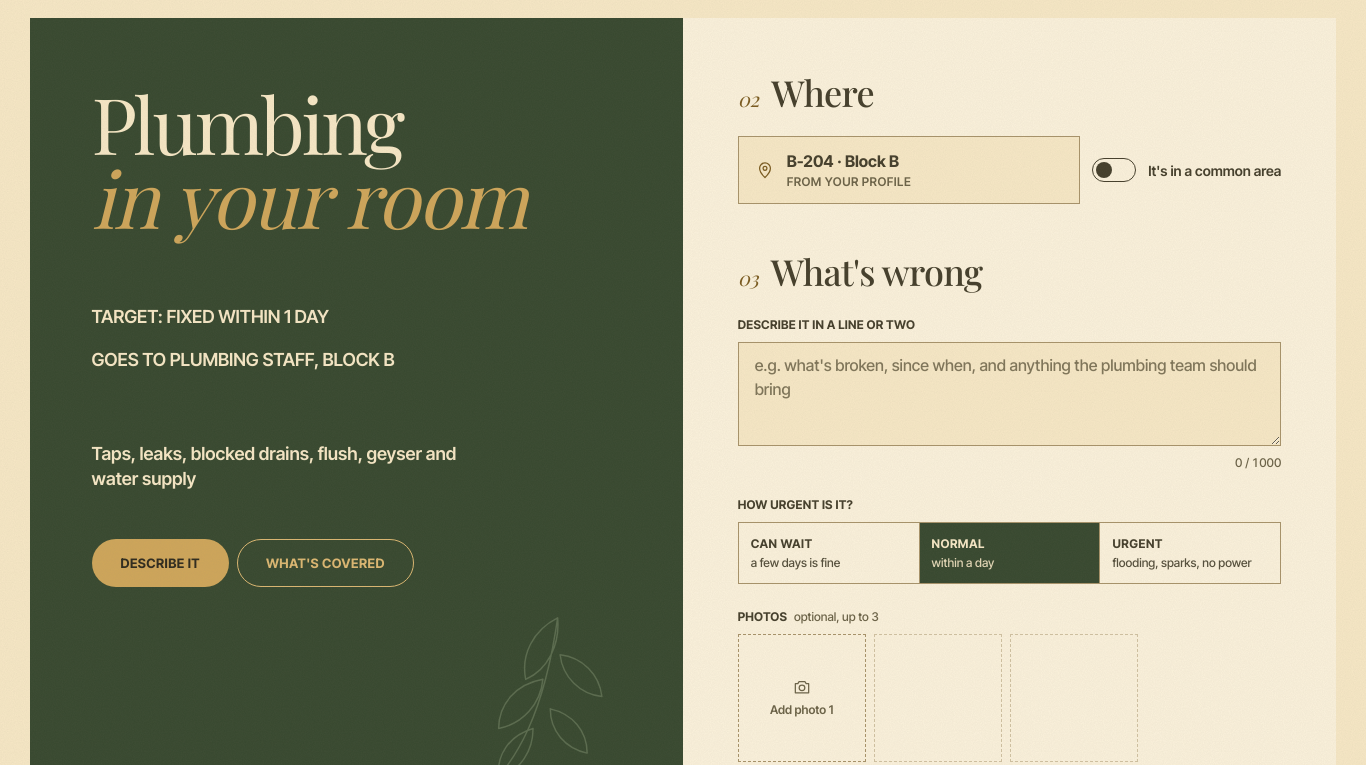
Test: Raise a complaint › blocks a description that is too short before anything is sent
(page scrolled)
In the text box labelled "Describe it in a line or two": (1009, 394) left=738, top=342, right=1281, bottom=446, type "leak"
(page scrolled)
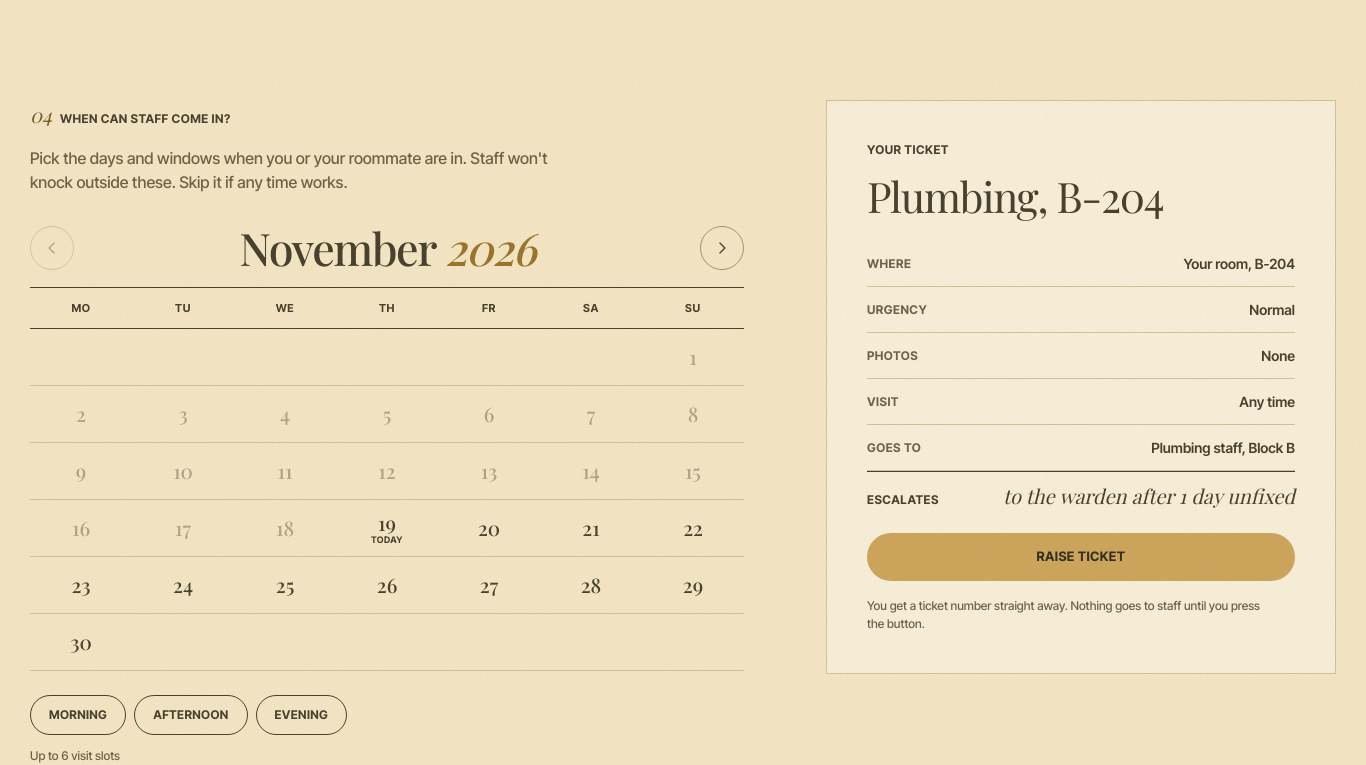
Click the button "Raise ticket": (1081, 557) left=867, top=533, right=1295, bottom=581
(page scrolled)
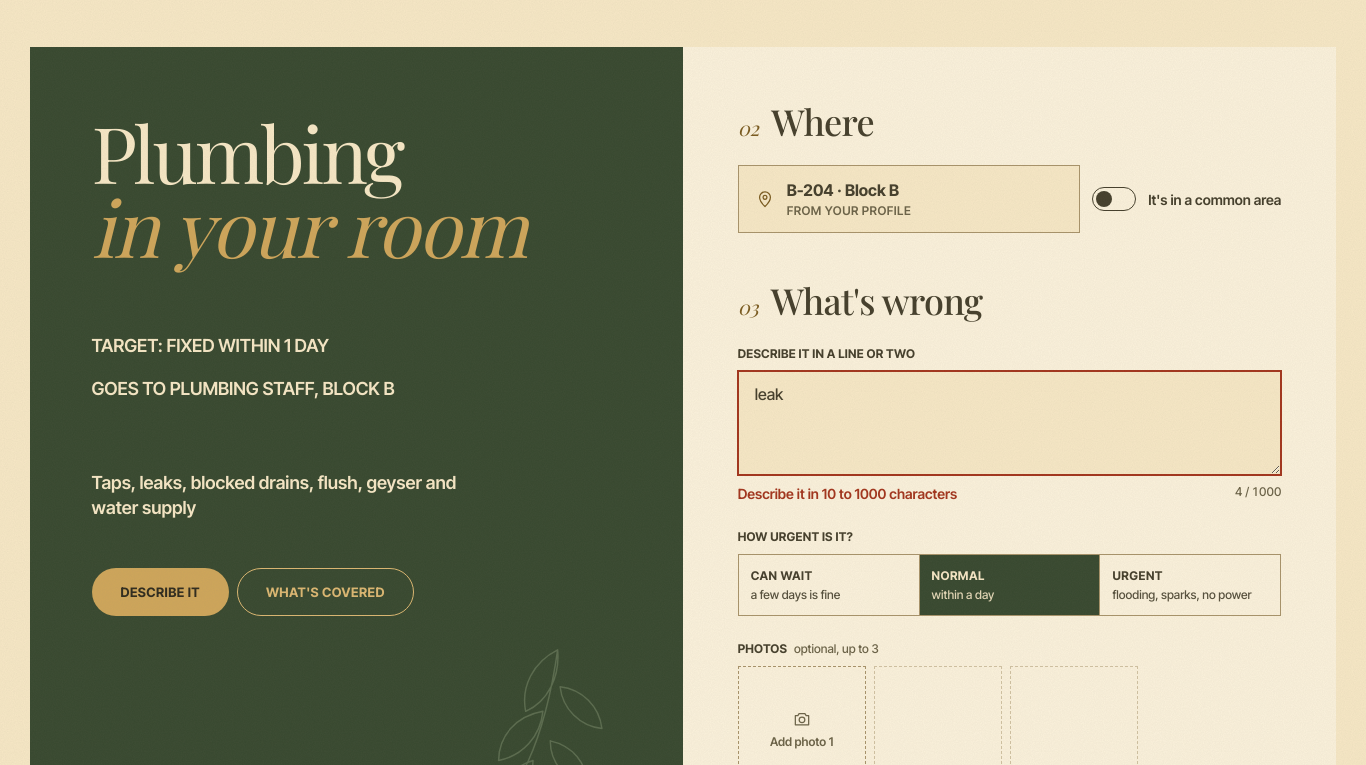
Expected: the text "Describe it in 10 to 1000 characters" is shown, left=738, top=483, right=957, bottom=504
